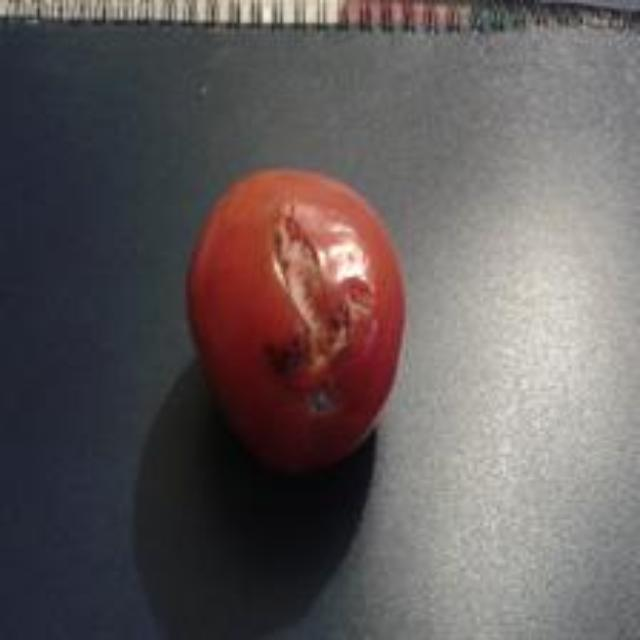defect: (179, 163, 413, 478)
